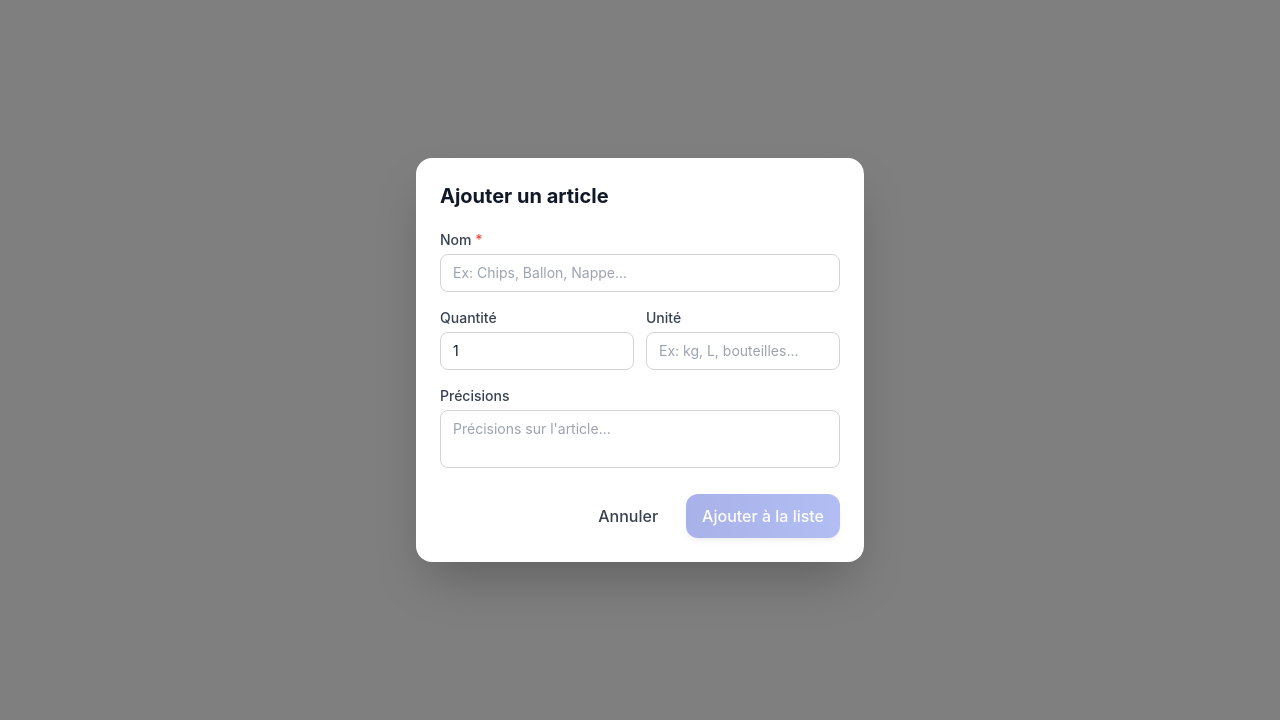
Test: AddItemModal › disables the submit button until a name is entered
expect the button "Ajouter à la liste" is disabled: met, box left=686, top=494, right=840, bottom=538
Type "Chips" into the field labelled "Nom *" at (640, 273), box left=440, top=254, right=840, bottom=292
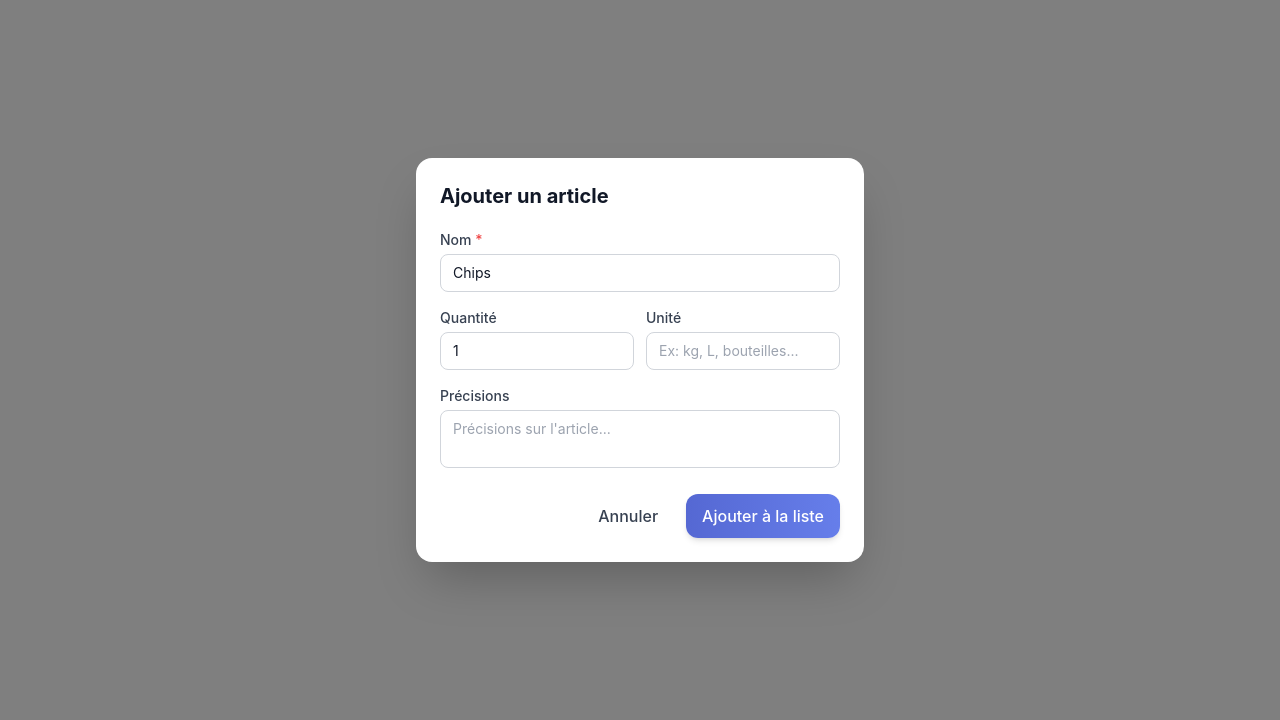
expect the button "Ajouter à la liste" is enabled: met, box left=686, top=494, right=840, bottom=538
